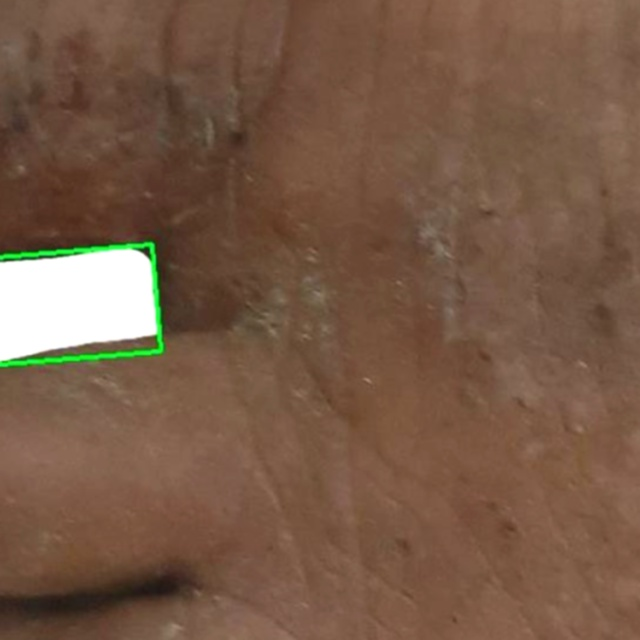Eczema: (0, 245, 161, 365)
